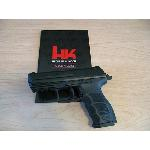Pistol: (26, 66, 120, 128)
